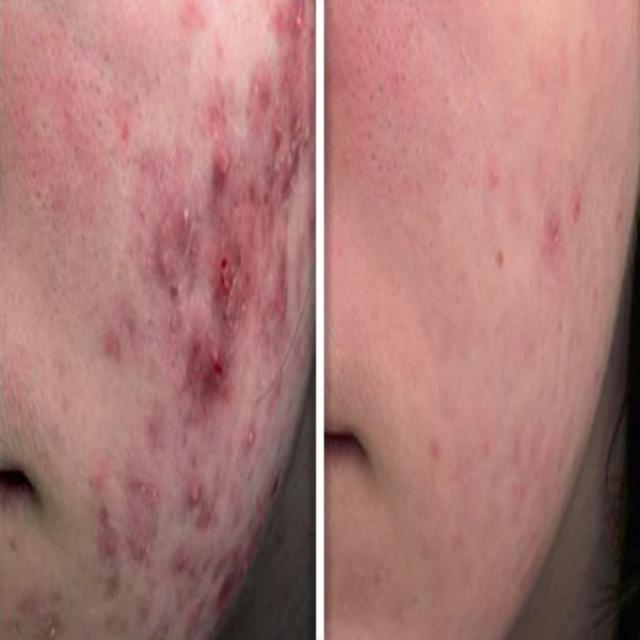Acne: (243, 0, 314, 227), (145, 310, 242, 449), (138, 160, 210, 309), (123, 549, 217, 640), (214, 476, 278, 604), (126, 461, 212, 552), (212, 214, 282, 318), (538, 176, 594, 284), (88, 448, 124, 602), (234, 403, 290, 477), (5, 586, 69, 640), (204, 29, 237, 133), (210, 136, 240, 208), (103, 314, 147, 362), (483, 233, 513, 294), (483, 153, 515, 205), (424, 430, 446, 495), (618, 202, 631, 248), (481, 425, 493, 464)
